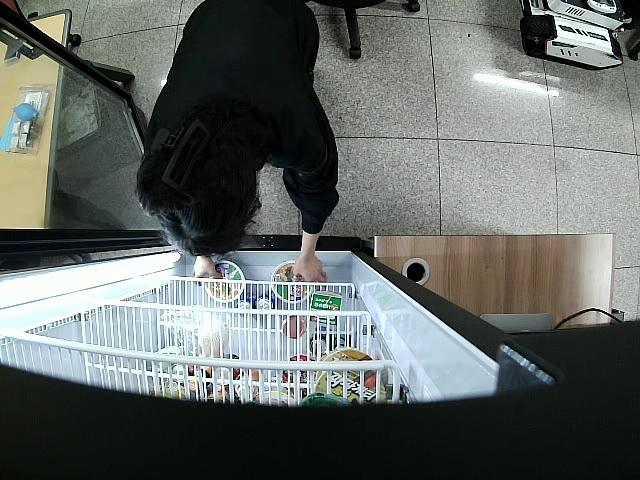00_hand: (294, 246, 326, 296), (191, 258, 222, 287)
09_yukGaeJang: (270, 261, 315, 305), (205, 261, 245, 303)
